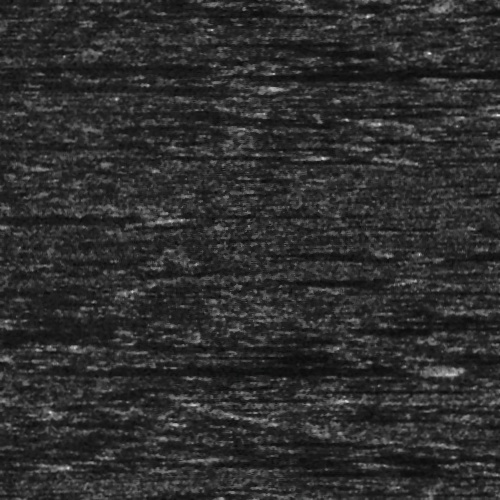object: (204, 81, 309, 90), (415, 362, 478, 375), (25, 458, 88, 467), (329, 38, 412, 43), (274, 153, 337, 158), (437, 469, 500, 474), (377, 276, 418, 283), (333, 249, 386, 254), (465, 405, 500, 412), (345, 459, 386, 464), (306, 395, 337, 400), (475, 387, 500, 392), (123, 214, 164, 217), (404, 76, 445, 79)
shadow: (76, 362, 446, 375), (265, 67, 500, 78), (0, 81, 256, 90), (220, 455, 500, 460), (116, 153, 305, 158), (181, 459, 365, 464), (272, 276, 397, 283), (394, 288, 500, 295), (234, 249, 359, 254), (246, 38, 370, 43), (386, 387, 500, 392), (242, 76, 424, 79), (423, 471, 500, 478), (0, 458, 57, 467), (0, 214, 143, 217), (465, 245, 500, 256), (452, 405, 500, 412), (258, 395, 321, 400), (409, 469, 468, 474), (442, 253, 500, 258)
